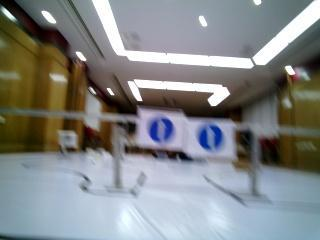straight: (186, 117, 234, 155), (140, 110, 178, 147)
